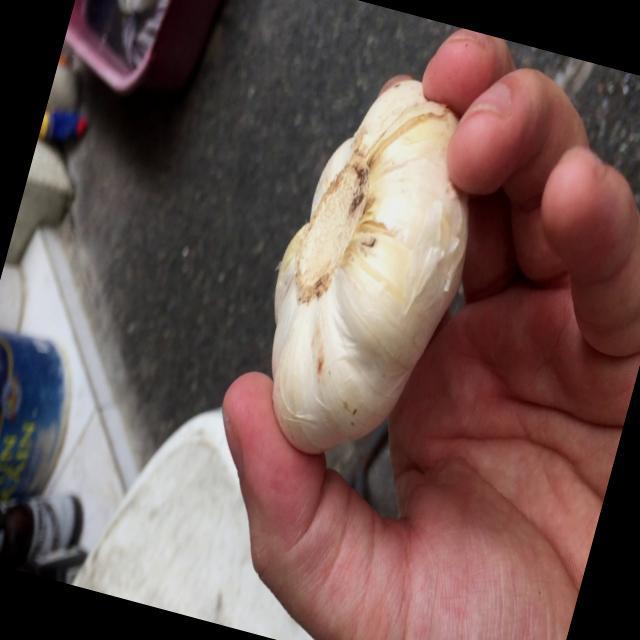bawang: (228, 52, 511, 480)
